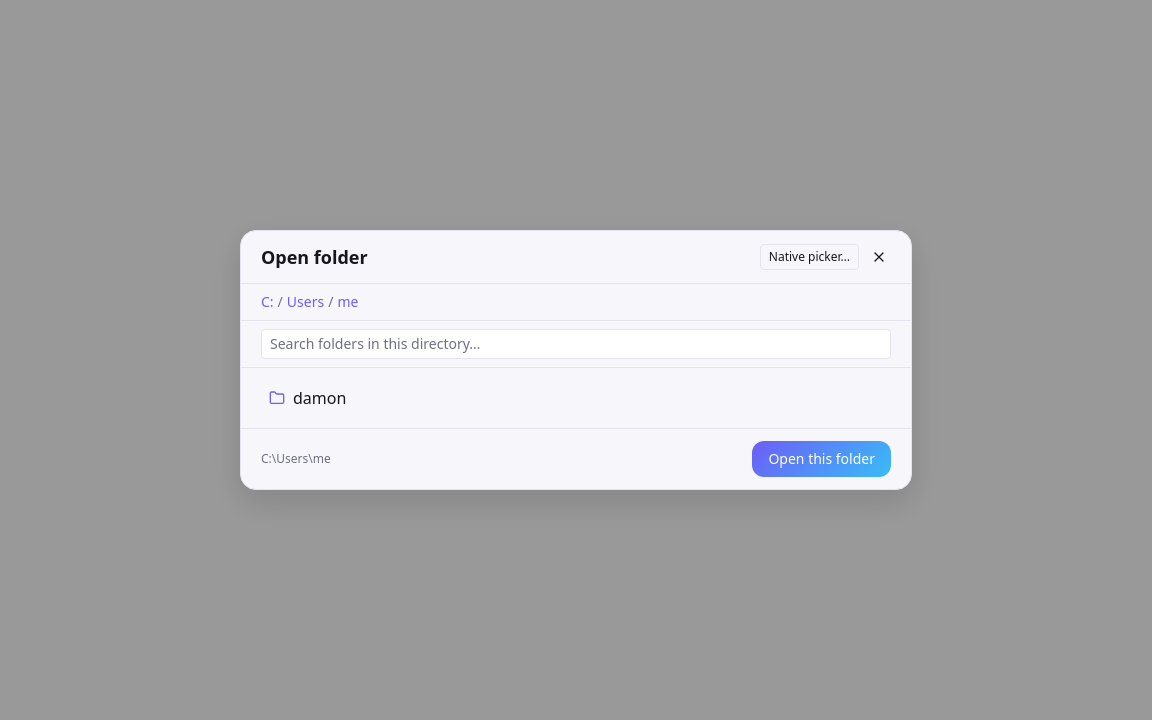
FolderPickerModal › navigates into a subfolder when clicked
Expected: the text "damon" is shown, [293,386,346,410]
Click the button "damon" at (320, 398), box [261,380,891,416]
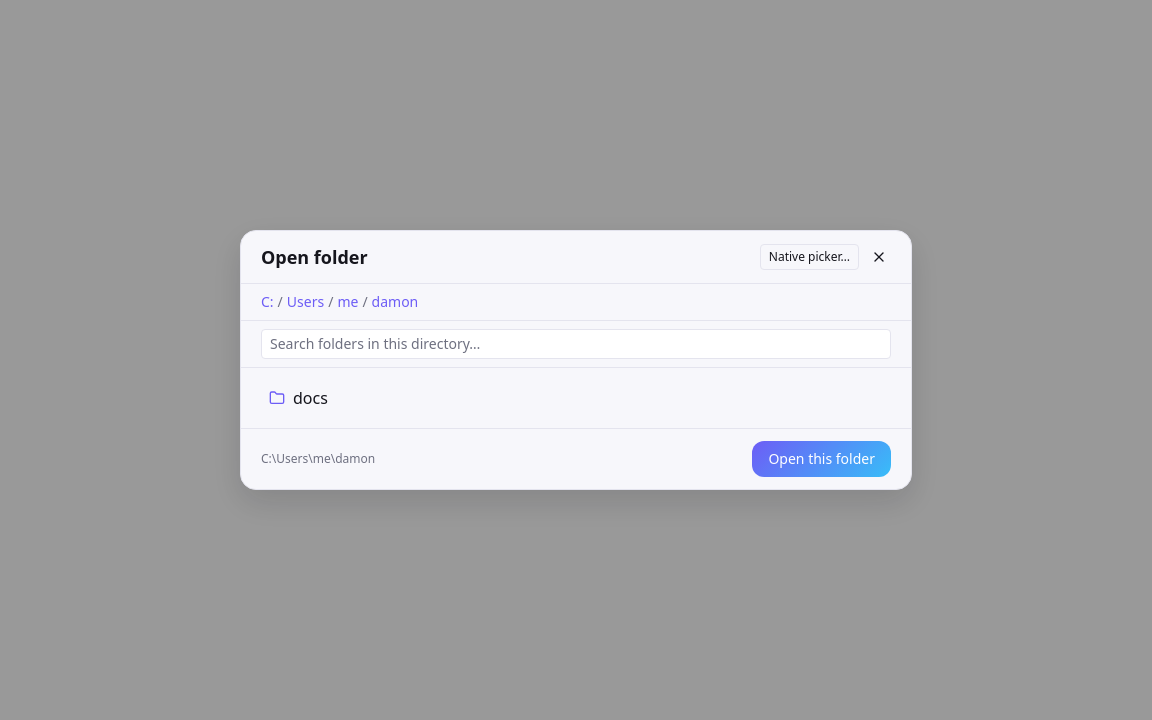
Result: the text "docs" is shown at [293,386,328,410]
